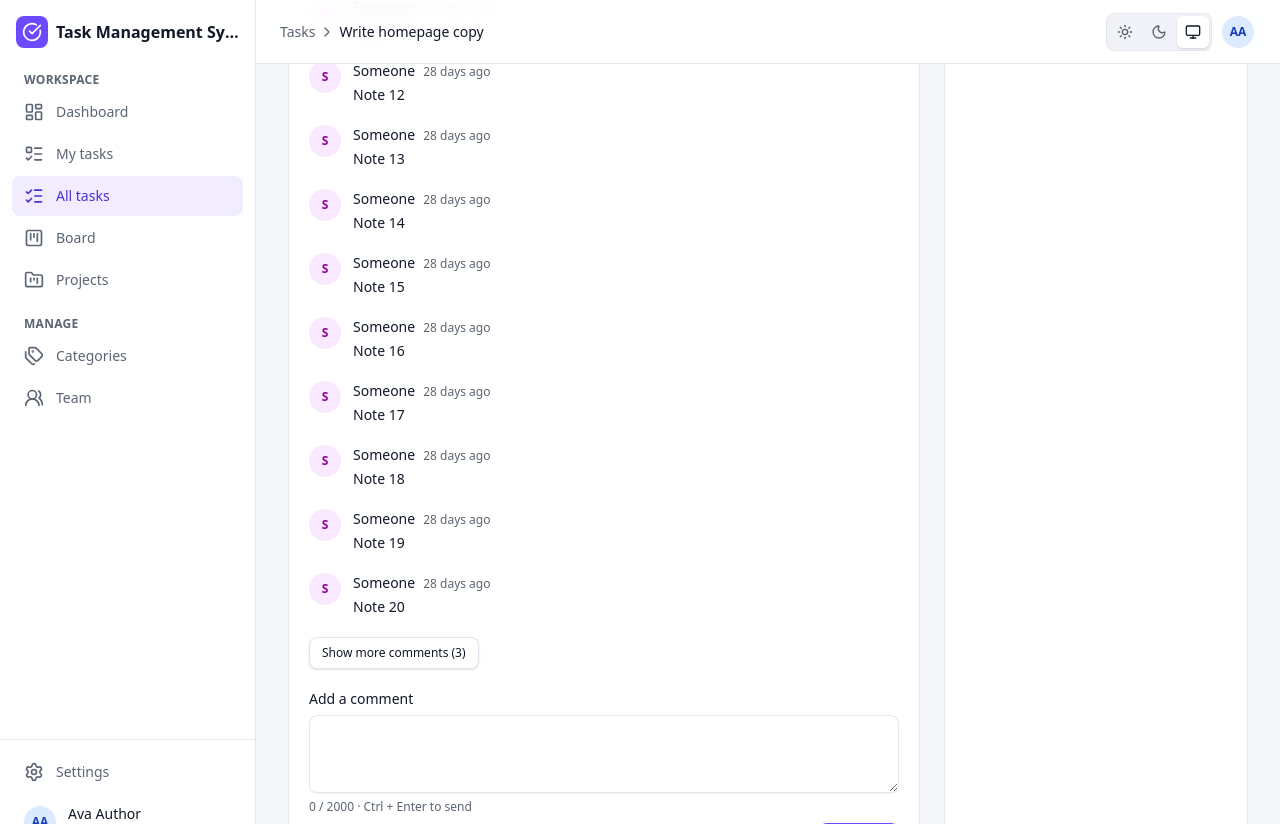
Test: Comments on a task › loads older pages with "Show more" (20 at a time)
This screenshot has width=1280, height=824.
(page scrolled)
Expected: the text "Note 20" is shown, [353,597,405,616]
Expected: the text "Note 21" is not shown
Click the button "Show more comments (3)" at [394, 653], box [309,637,479,669]
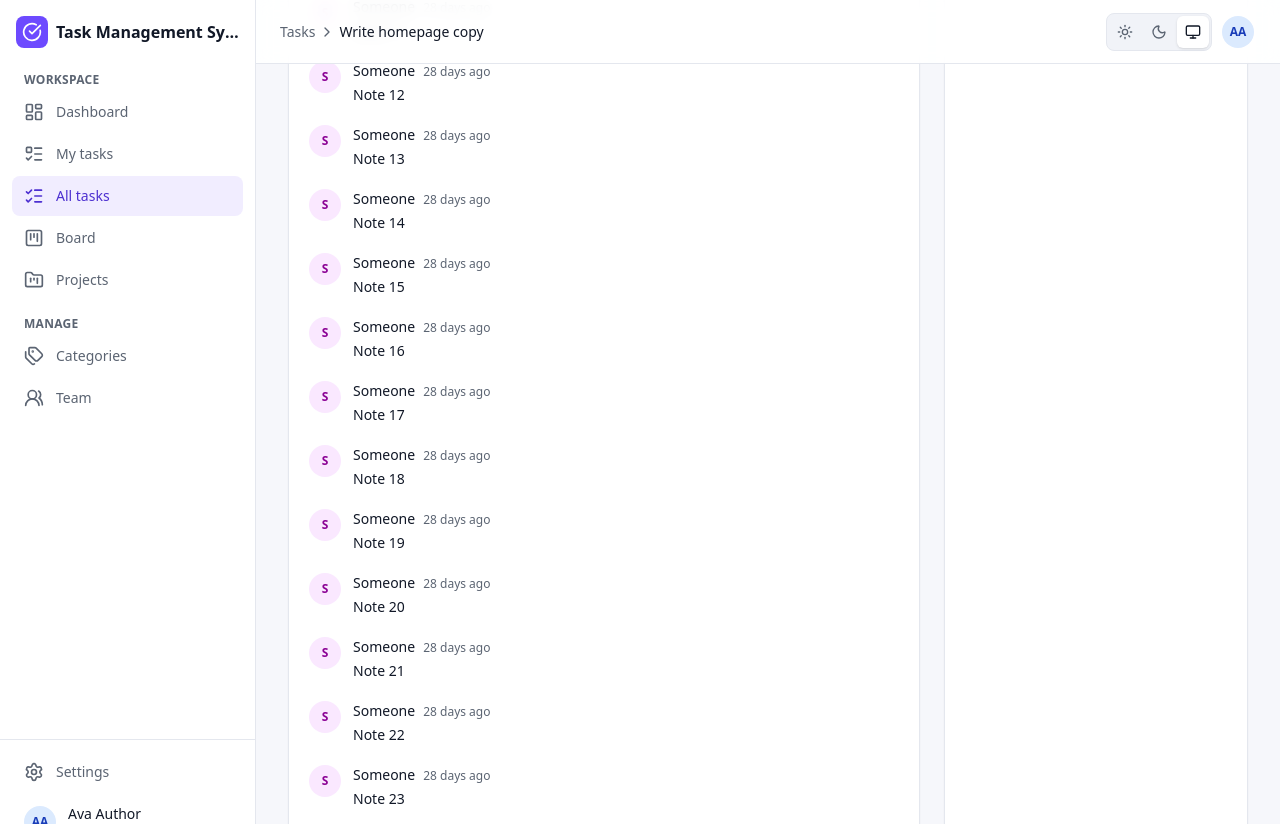
Expected: the text "Note 23" is shown, [353,789,405,808]
Expected: the button "Show more comments" is gone
